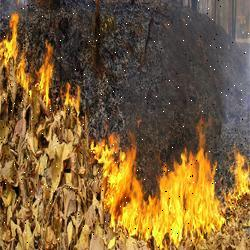fire: (89, 122, 250, 248), (0, 10, 82, 113)
